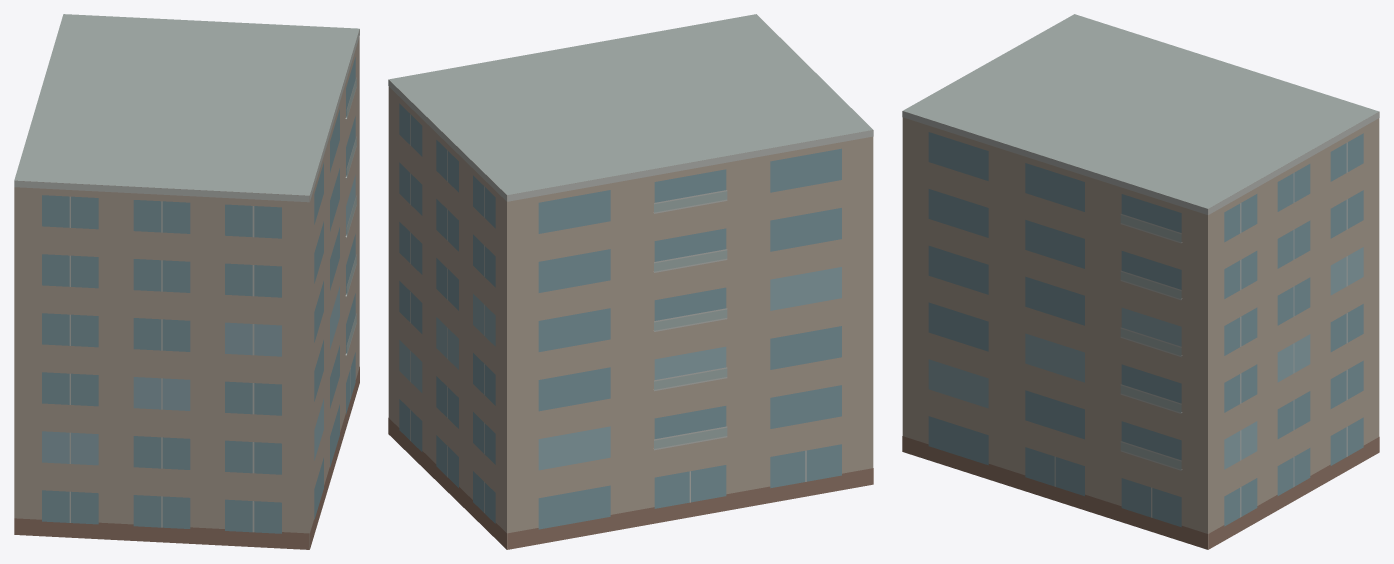
The model's file is survey-upis-32933956.glb.
3 views of the same model, side by side, from view 1: azimuth 30°, elevation 25°; view 2: azimuth 150°, elevation 25°; view 3: azimuth 270°, elevation 25° (orthographic). The views are drawn at different scales.
Parts seen in each view (by area): view 1: survey-upis-32933956.tmp; view 2: survey-upis-32933956.tmp; view 3: survey-upis-32933956.tmp.
Part boxes in pixels (left/top/right/bottom): survey-upis-32933956.tmp: left=14, top=14, right=359, bottom=549; survey-upis-32933956.tmp: left=388, top=14, right=873, bottom=549; survey-upis-32933956.tmp: left=902, top=14, right=1379, bottom=549.
Size of the model in its own units: 16.07 by 13.1 by 16.62.
